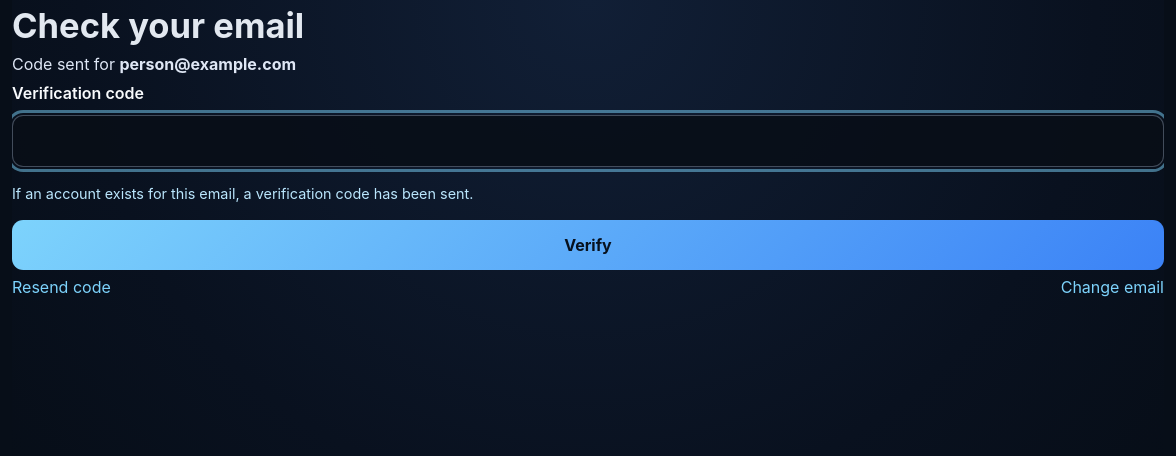
Test case: OtpVerificationStep › shows a generic invalid-or-expired message for unauthorized verification
The image size is (1176, 456).
In the field labelled "Verification code": (588, 141) [12,115,1164,167], type "123456"
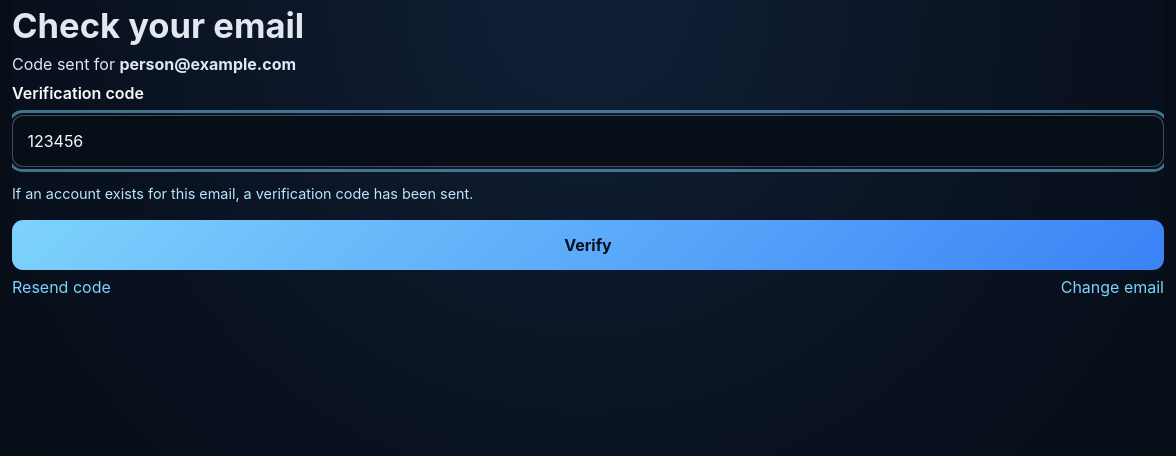
Click the button "Verify": (588, 245) [12,220,1164,270]
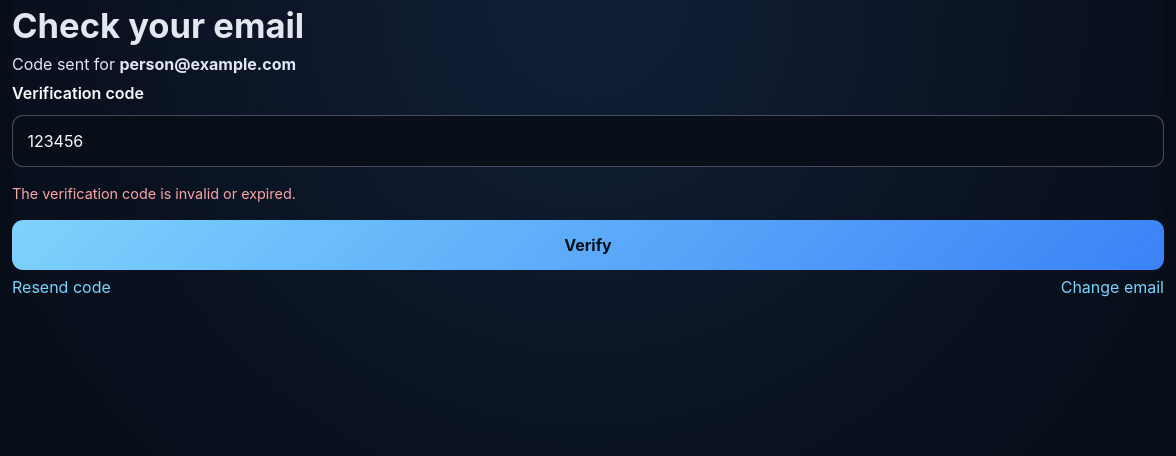
Check: the message reads "The verification code is invalid or expired.", box [12,185,296,202]
